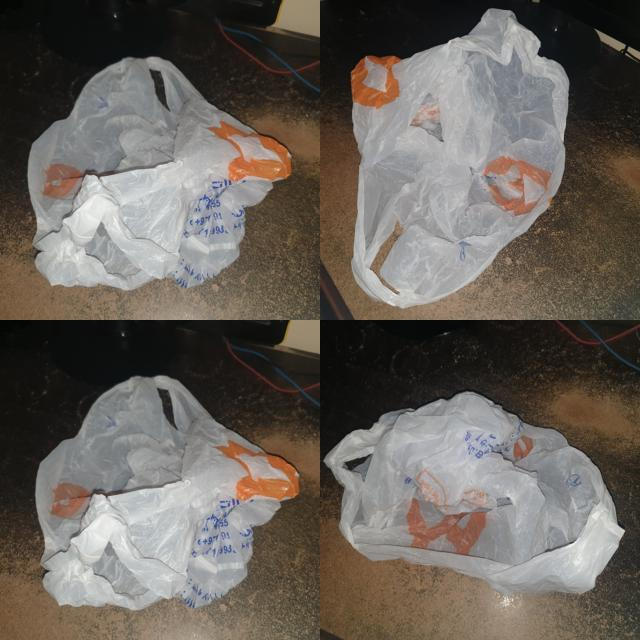Single-layer Plastic: (351, 9, 569, 308), (36, 376, 299, 610), (28, 58, 291, 290), (325, 391, 624, 595)
